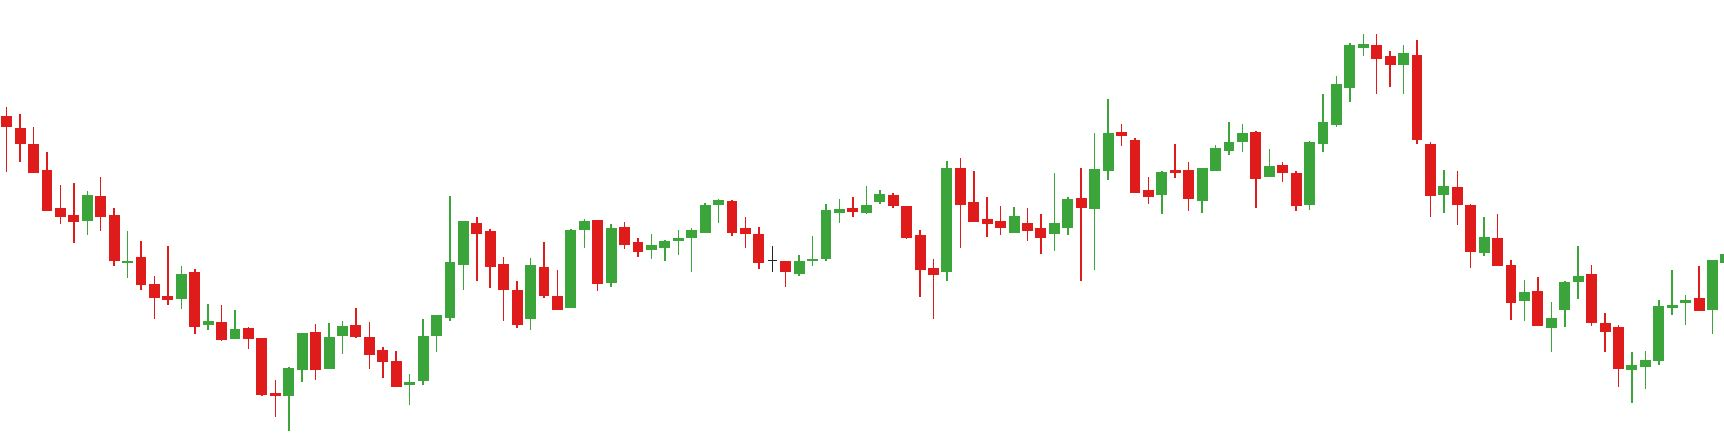buy: (778, 233, 940, 321), (1546, 298, 1666, 403)
